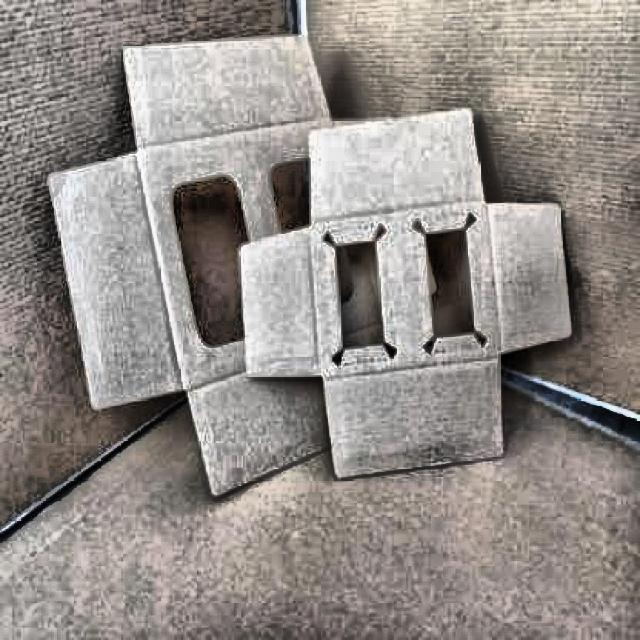Cardbox: (238, 106, 590, 498)
